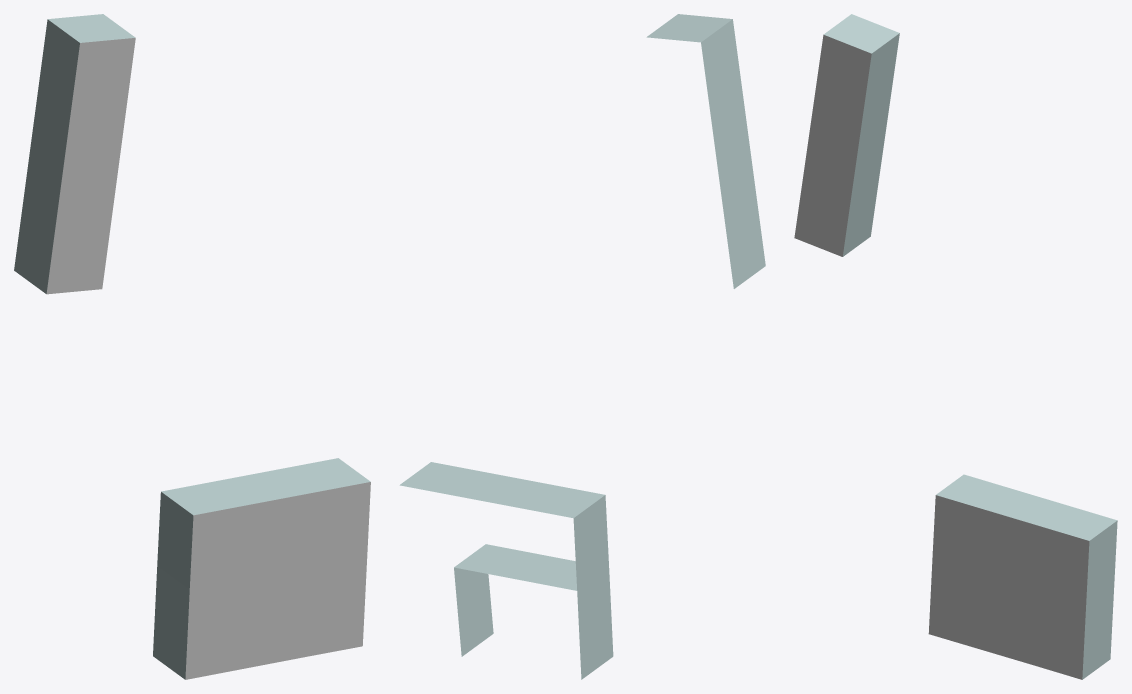
The picture shows the model from 3 angles, left to right: view 1: azimuth 30°, elevation 25°; view 2: azimuth 150°, elevation 25°; view 3: azimuth 330°, elevation 25°; orthographic projection. The views are drawn at different scales.
Visible parts, largest first — view 1: 0_2_1_1_3_3_3_2_2; view 2: 0_2_1_1_3_3_3_2_2; view 3: 0_2_1_1_3_3_3_2_2.
Part boxes in pixels (x1,y1,x2,y2): 0_2_1_1_3_3_3_2_2: (14,14,370,679); 0_2_1_1_3_3_3_2_2: (399,14,765,679); 0_2_1_1_3_3_3_2_2: (794,14,1117,679).
Bounding box in the file's own units: 17.71 × 34.61 × 3.75.
